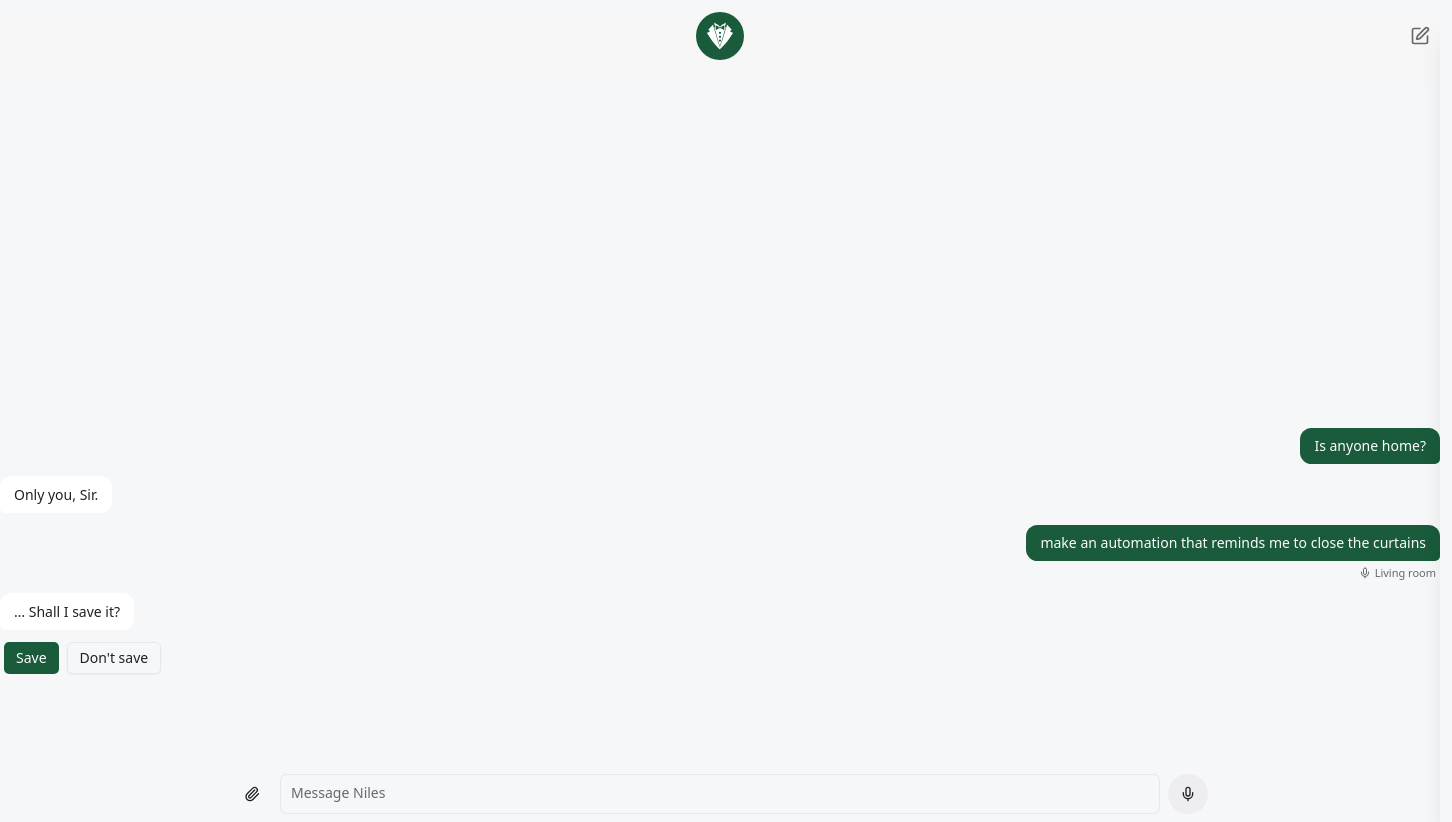
Test: ChatPage › carries on the conversation on screen
Check: the text "Only you, Sir." is shown, box [14, 484, 98, 504]
In the text box labelled "Message Niles": (720, 794) [280, 774, 1160, 814], type "and the kitchen lights?"
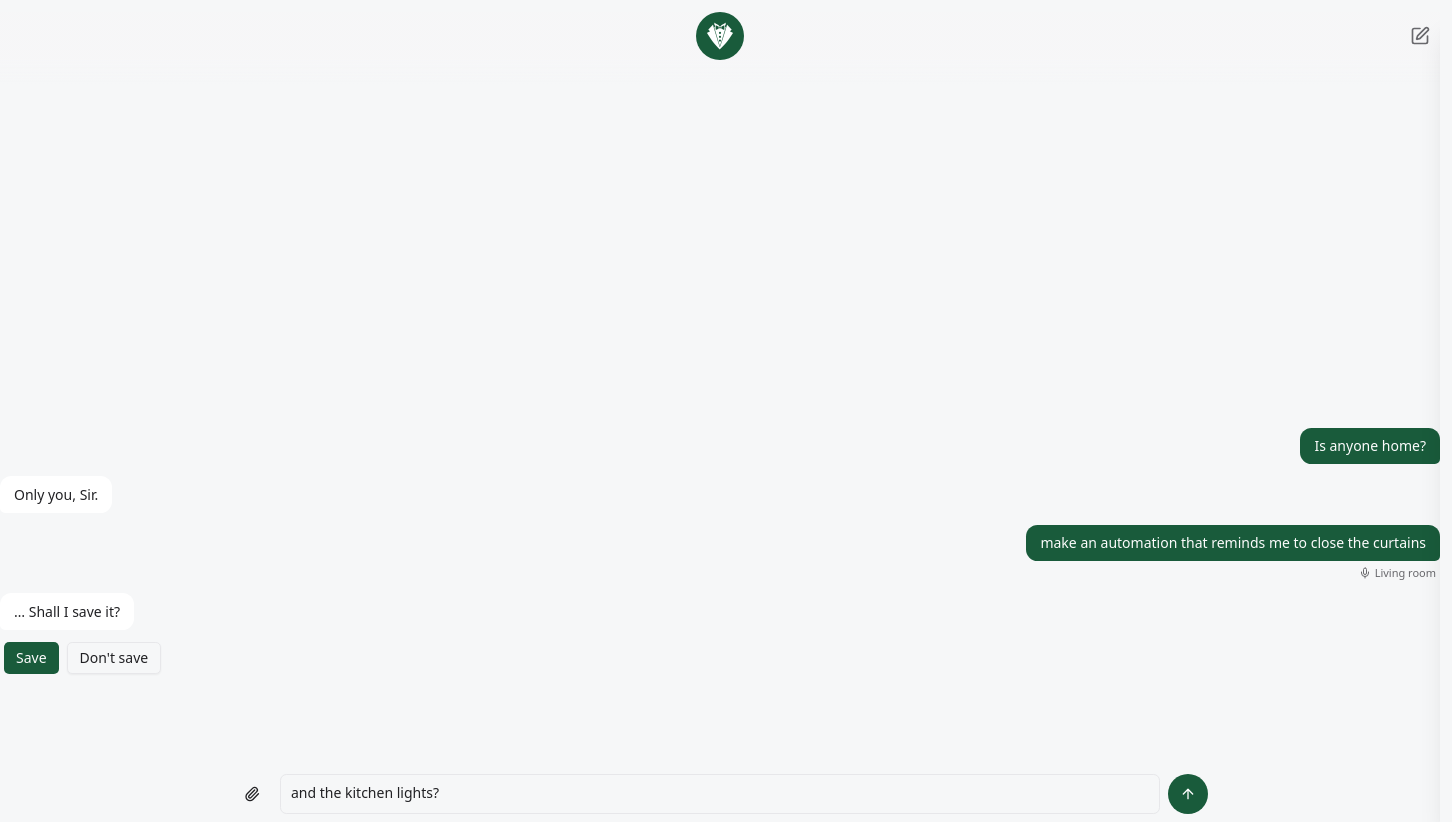
Press Enter in the text box named "Message Niles", box [280, 774, 1160, 814]
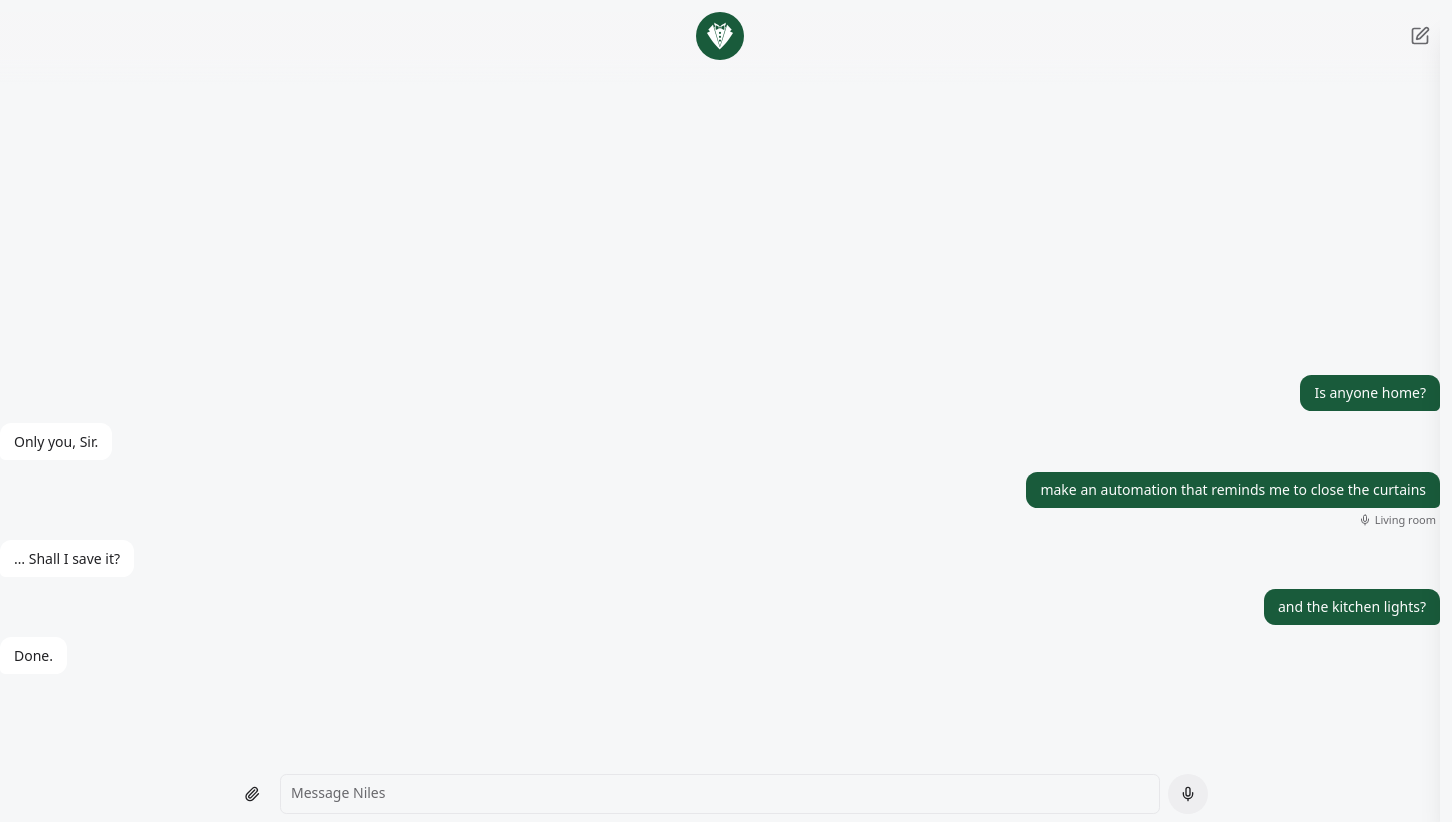
Check: the text "Only you, Sir." is shown, box [14, 430, 98, 452]
Check: the text "Done." is shown, box [14, 645, 53, 666]
